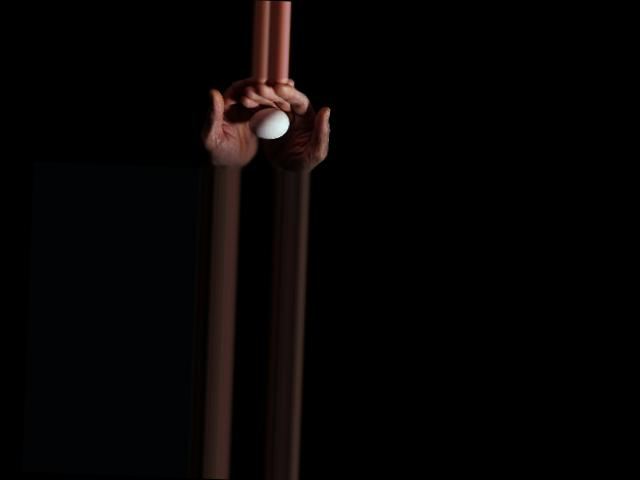egg: (248, 106, 290, 140)
